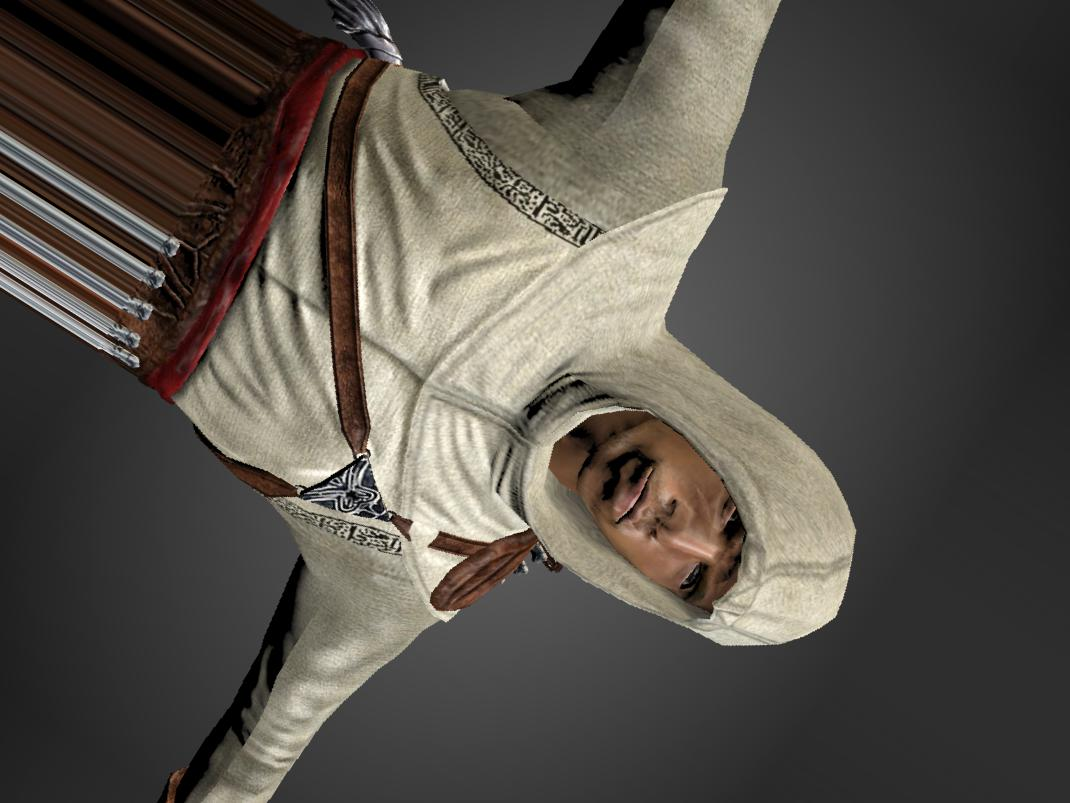clip: (396, 510, 443, 549)
